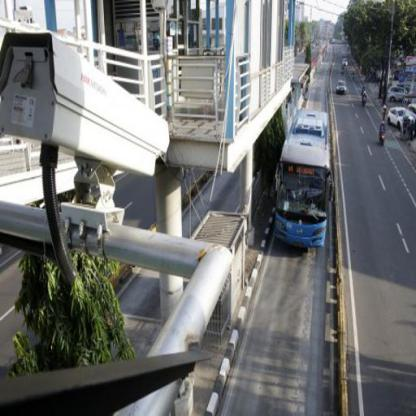bus: (272, 110, 333, 256)
car: (334, 76, 349, 96)
